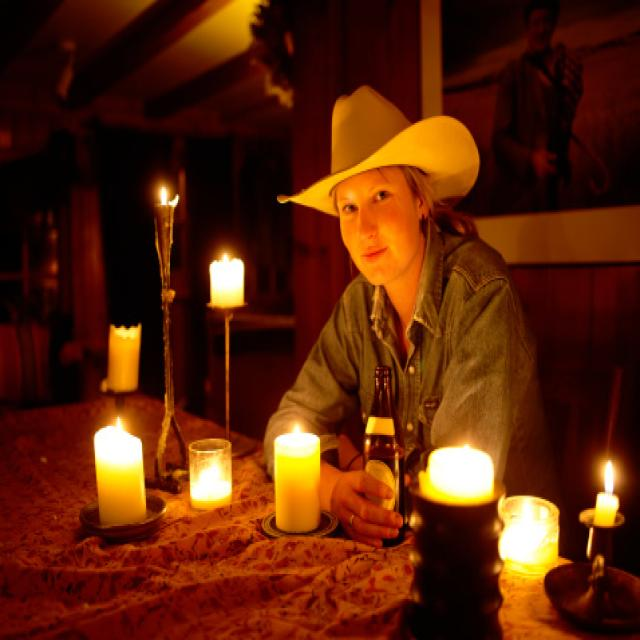Bottle: (356, 364, 411, 534)
People: (316, 69, 516, 524)
Table: (1, 382, 640, 638)
